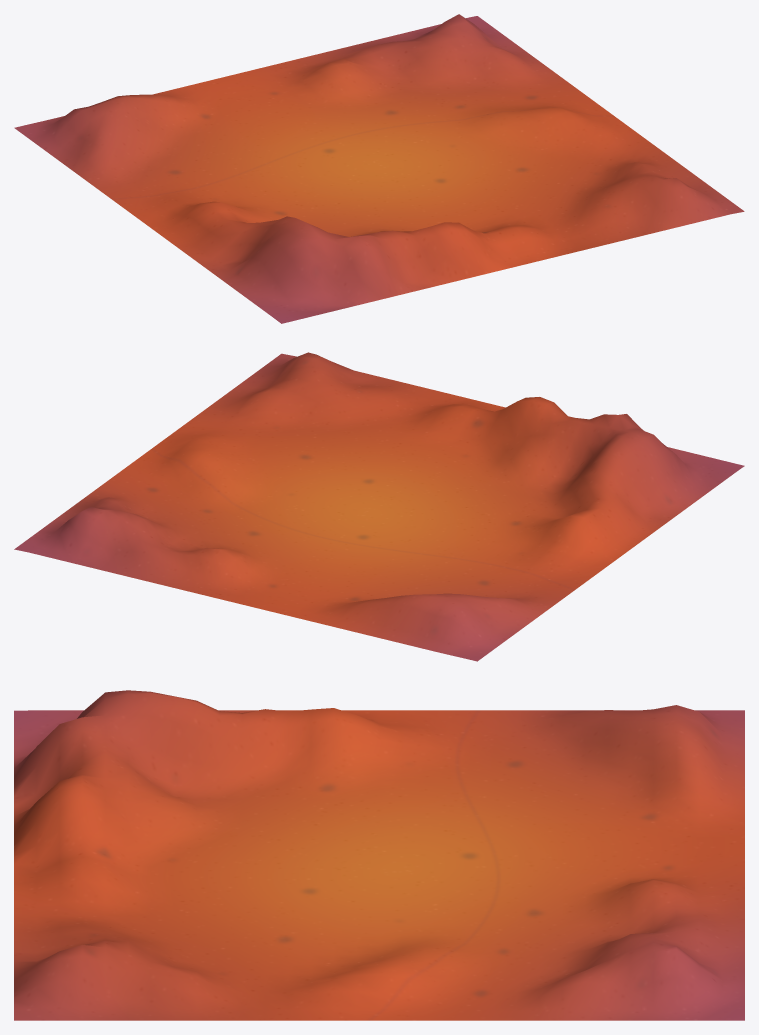
File: GroundPlate.fbx
The picture shows the model from 3 angles, top to bottom: view 1: azimuth 30°, elevation 25°; view 2: azimuth 150°, elevation 25°; view 3: azimuth 270°, elevation 25°; orthographic projection. The views are drawn at different scales.
Visible parts, largest first — view 1: GroundPlate; view 2: GroundPlate; view 3: GroundPlate.
Part boxes in pixels (box(x1,y1,x2,y2)): GroundPlate: box(14, 14, 744, 323); GroundPlate: box(14, 352, 744, 661); GroundPlate: box(14, 690, 744, 1020).
Size of the model in its own units: 18000 by 1840 by 18000.
